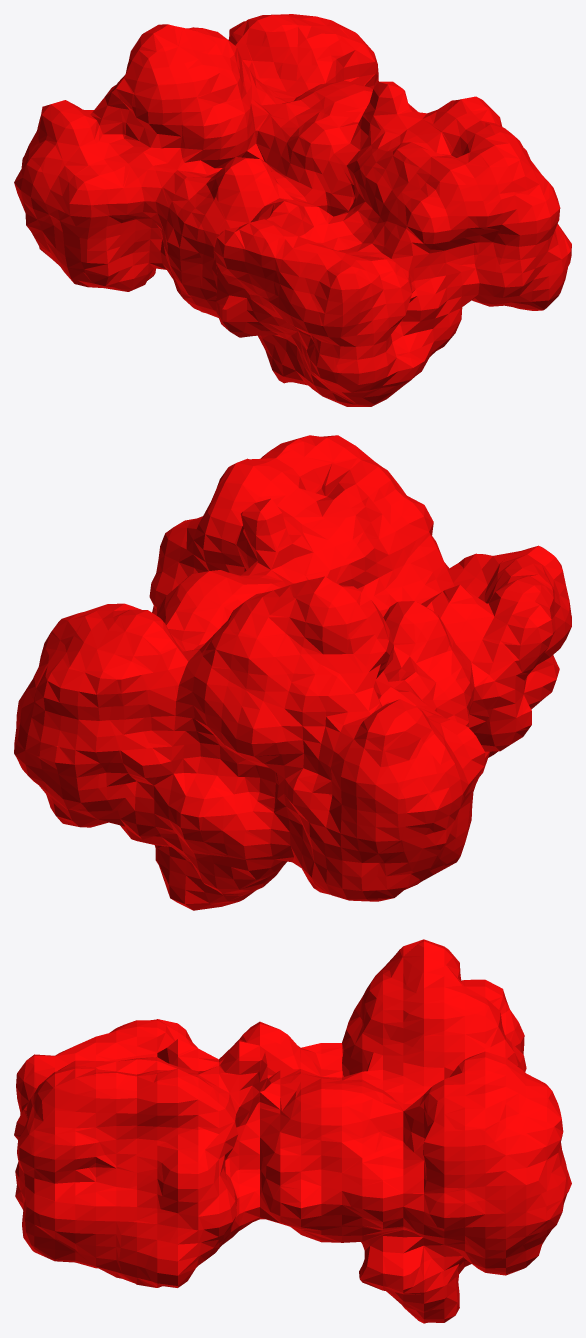
Rendered from Secretogranin_II_Chromogranin__coarse.dae.
3 views of the same model, one above another, from view 1: azimuth 30°, elevation 25°; view 2: azimuth 150°, elevation 25°; view 3: azimuth 270°, elevation 25° (orthographic). The views are drawn at different scales.
Parts seen in each view (by area): view 1: Secretogranin_II_Chromogranin_; view 2: Secretogranin_II_Chromogranin_; view 3: Secretogranin_II_Chromogranin_.
Boxes of the visible parts, x1,y1,x2,y2 form: Secretogranin_II_Chromogranin_: [14, 14, 571, 406]; Secretogranin_II_Chromogranin_: [14, 435, 571, 910]; Secretogranin_II_Chromogranin_: [14, 939, 571, 1323].
Bounding box in the file's own units: 111 × 83.22 × 128.
